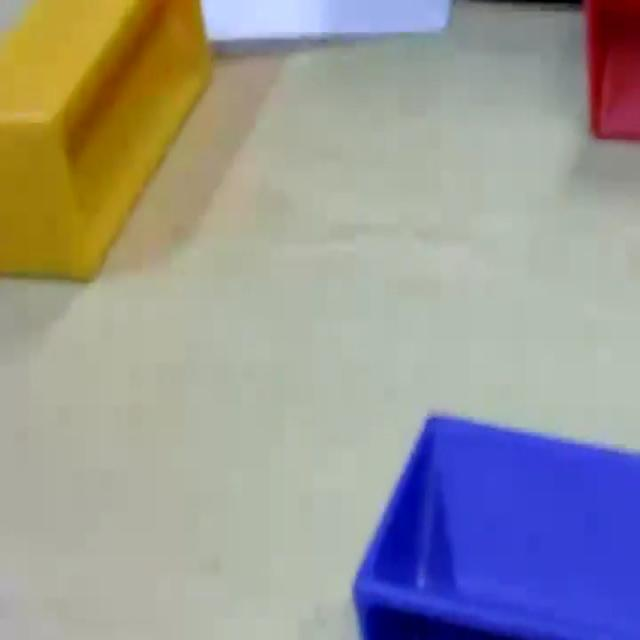blue_block: (351, 410, 639, 638)
yellow_block: (0, 0, 213, 283)
